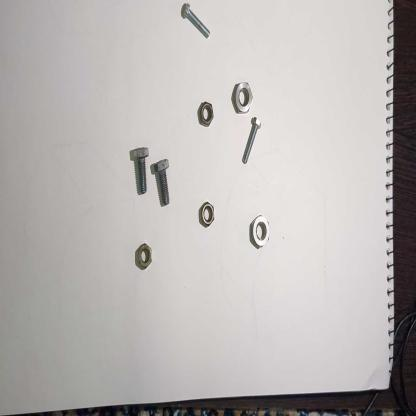Bolts: (238, 109, 270, 172), (178, 0, 212, 43), (150, 153, 174, 208), (130, 142, 151, 197)
NUTS: (229, 78, 256, 118), (248, 208, 273, 251), (133, 242, 158, 272), (197, 96, 216, 132), (198, 194, 217, 230), (198, 199, 217, 229)
